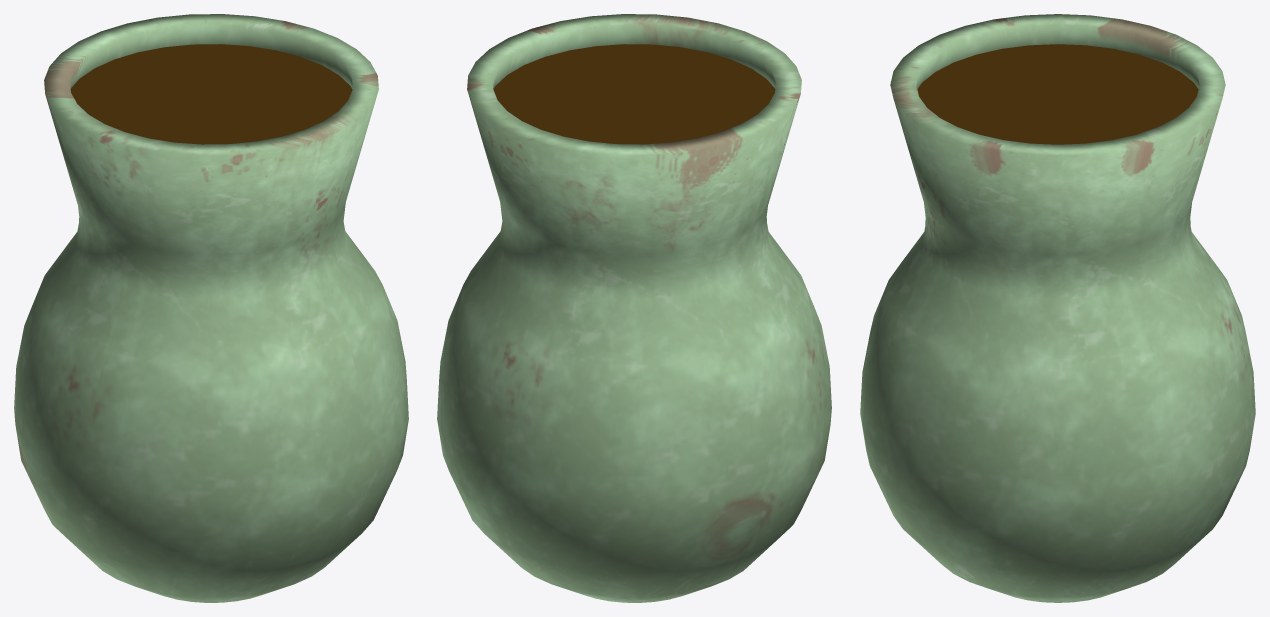
Rendered from vaso_verde.fbx.
The picture shows the model from 3 angles, left to right: view 1: azimuth 30°, elevation 25°; view 2: azimuth 150°, elevation 25°; view 3: azimuth 270°, elevation 25°; orthographic projection.
Visible parts, largest first — view 1: vasoverde; view 2: vasoverde; view 3: vasoverde.
Boxes of the visible parts, left/top/right/bottom form: vasoverde: left=14, top=14, right=408, bottom=602; vasoverde: left=437, top=14, right=831, bottom=602; vasoverde: left=860, top=14, right=1255, bottom=602.
Size of the model in its own units: 167 by 228 by 167.
2 materials, 2 textured.
